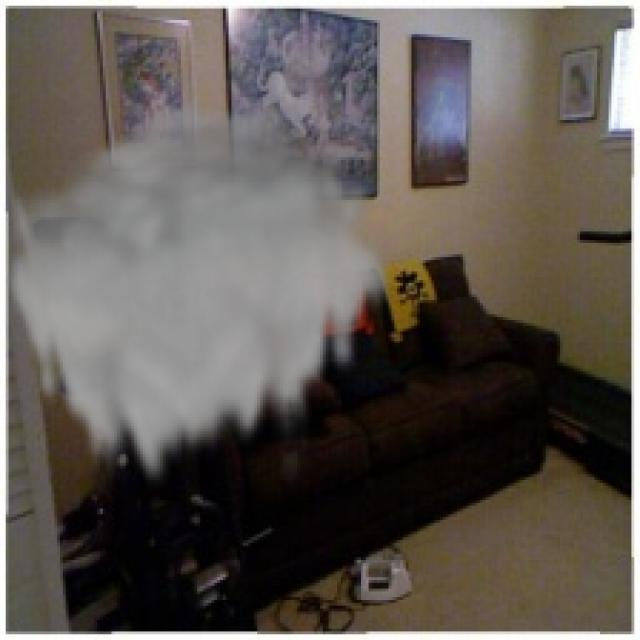smoke: (3, 94, 397, 497)
